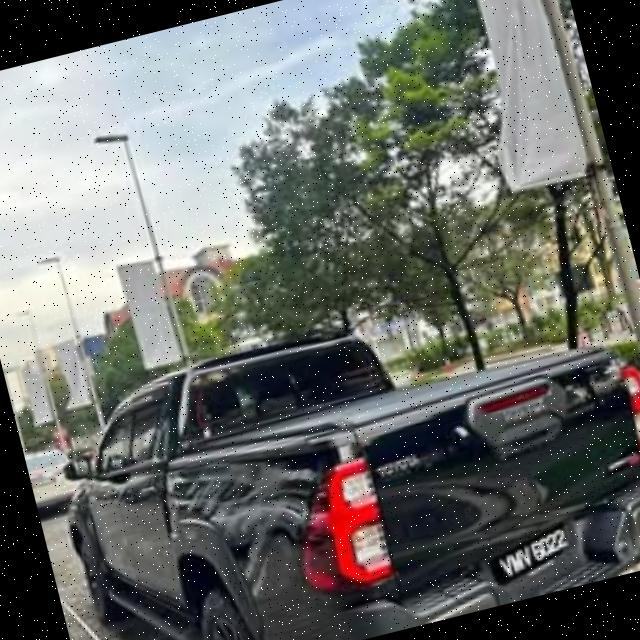License_Plate: (480, 522, 577, 588)
car: (34, 253, 640, 640)
